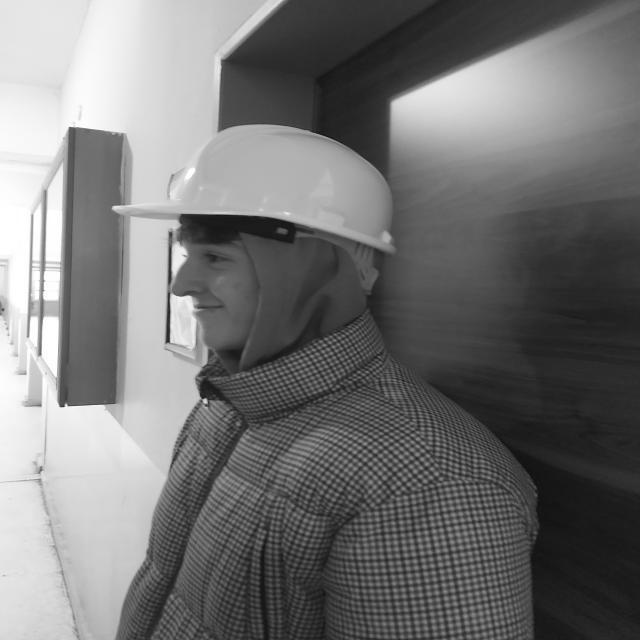safety_helmet: (121, 125, 397, 257)
